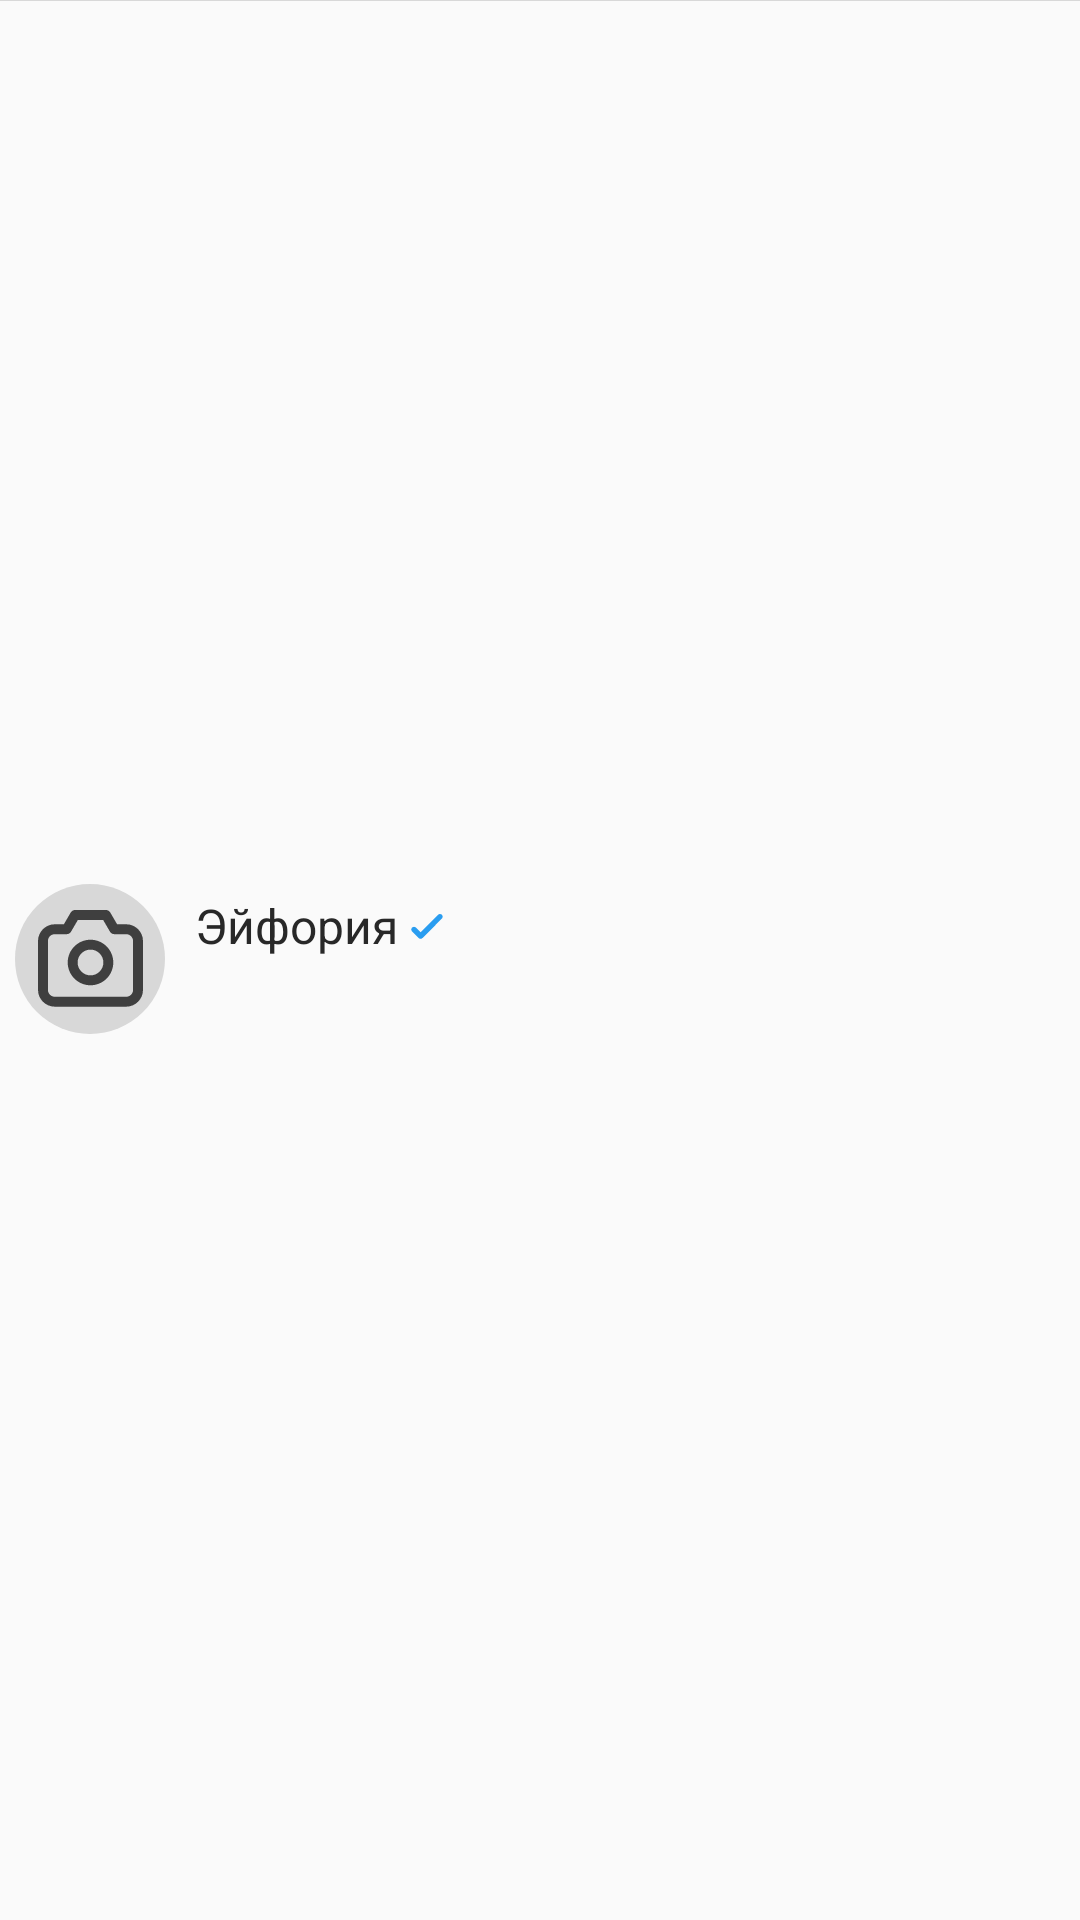

Point at icon controls on the screen. Image size 1080w x 1920h, points as (x=x, y=y).
camera: (x=90, y=959)
tick: (x=427, y=926)
